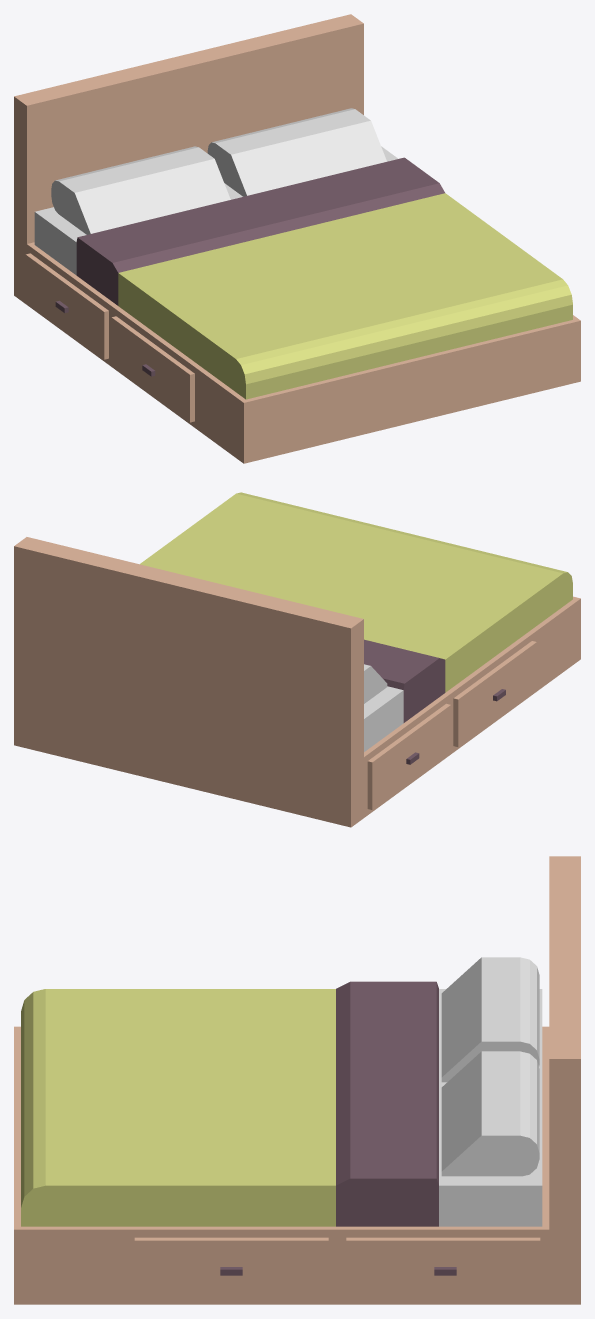
The model's file is bedroom.fbx.
The picture shows the model from 3 angles, top to bottom: view 1: azimuth 30°, elevation 25°; view 2: azimuth 150°, elevation 25°; view 3: azimuth 270°, elevation 25°; orthographic projection. The views are drawn at different scales.
Parts seen in each view (by area): view 1: Cube; view 2: Cube; view 3: Cube.
Part boxes in pixels (bbox=[...]): Cube: bbox=[14, 14, 580, 463]; Cube: bbox=[14, 492, 580, 827]; Cube: bbox=[14, 856, 580, 1304].
Bounding box in the file's own units: 565 × 303 × 634.
